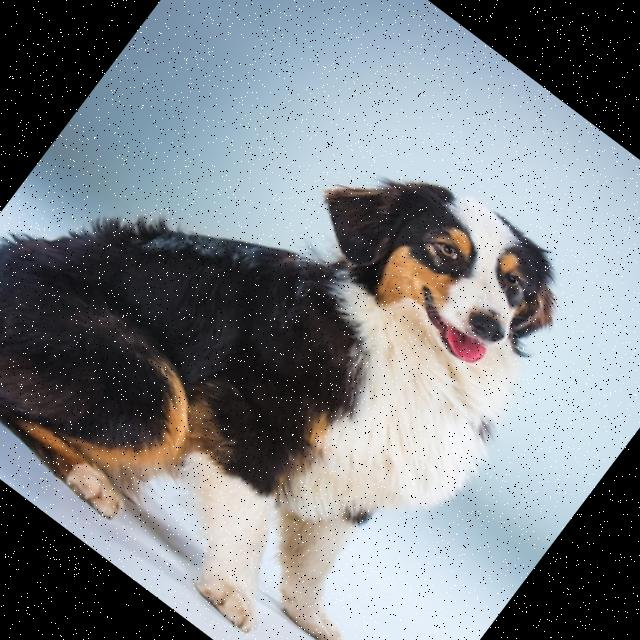Dog: (0, 0, 607, 640)
